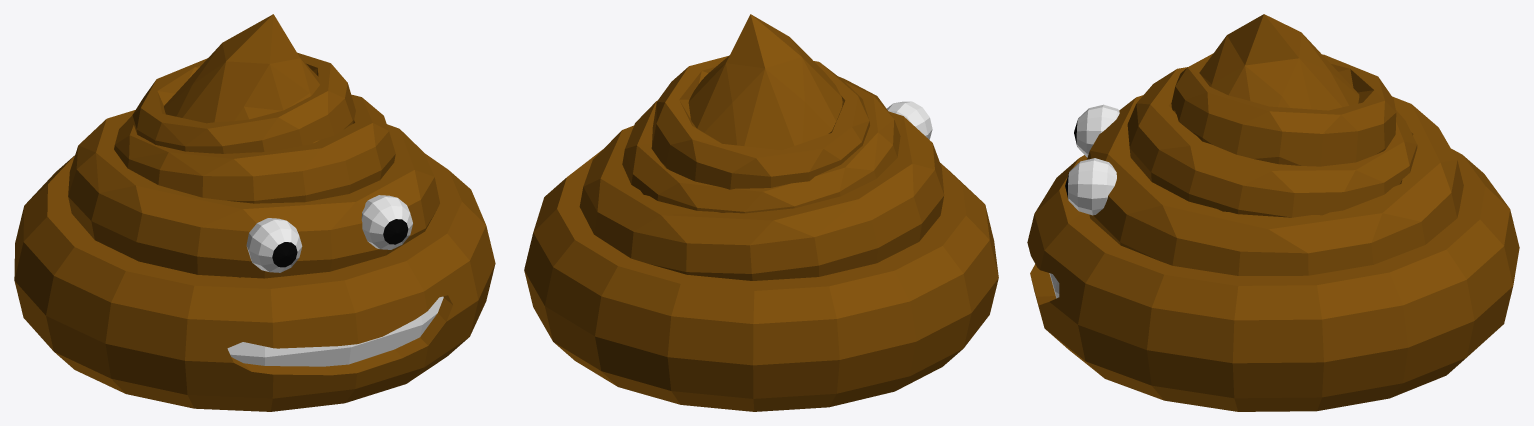
The model's file is poo.glb.
The picture shows the model from 3 angles, left to right: view 1: azimuth 30°, elevation 25°; view 2: azimuth 150°, elevation 25°; view 3: azimuth 270°, elevation 25°; orthographic projection. The views are drawn at different scales.
Visible parts, largest first — view 1: poop; view 2: poop; view 3: poop.
Part boxes in pixels (left/top/right/bottom): poop: left=14, top=14, right=495, bottom=411; poop: left=524, top=14, right=998, bottom=411; poop: left=1027, top=14, right=1519, bottom=411.
Bounding box in the file's own units: 0.6787 × 0.4807 × 0.6769.
